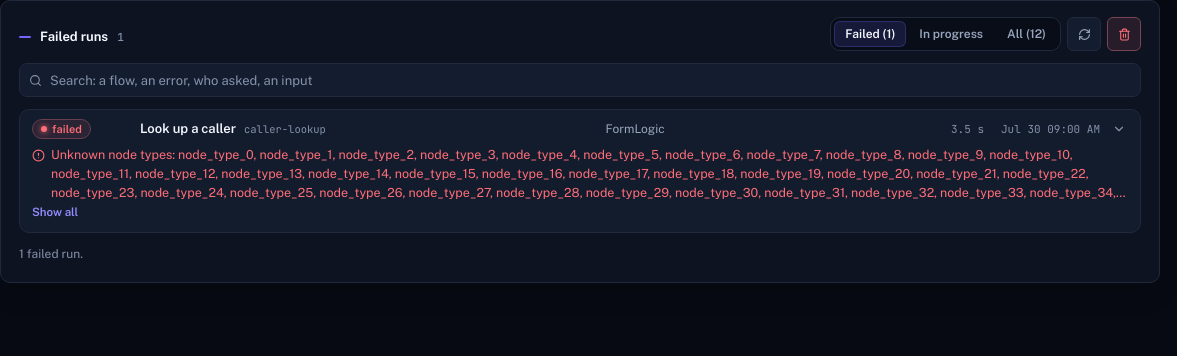
Scenario: RunsPanel › holds a long reason to three lines, with the rest a click away
The image size is (1177, 356).
Click the button "Show all".
click(55, 212)  # box [32,202,78,222]
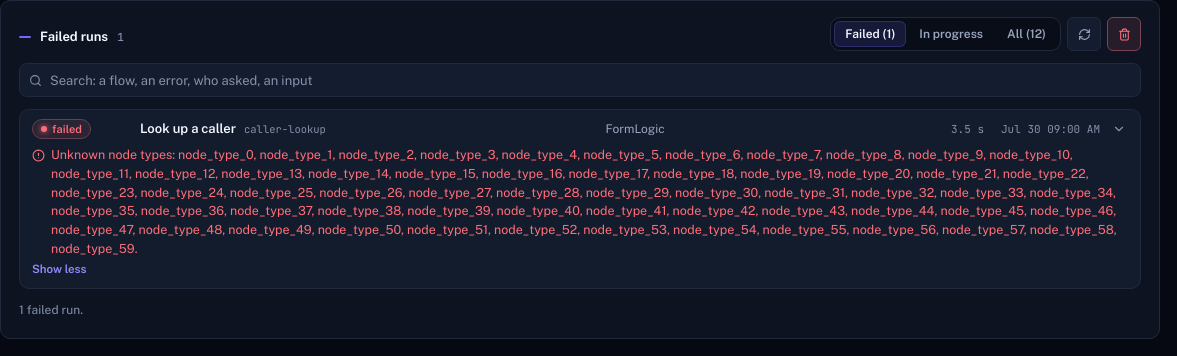
Expected: the button "Show less" is expanded
Click the button "Show less".
click(59, 268)  # box [32,258,86,278]
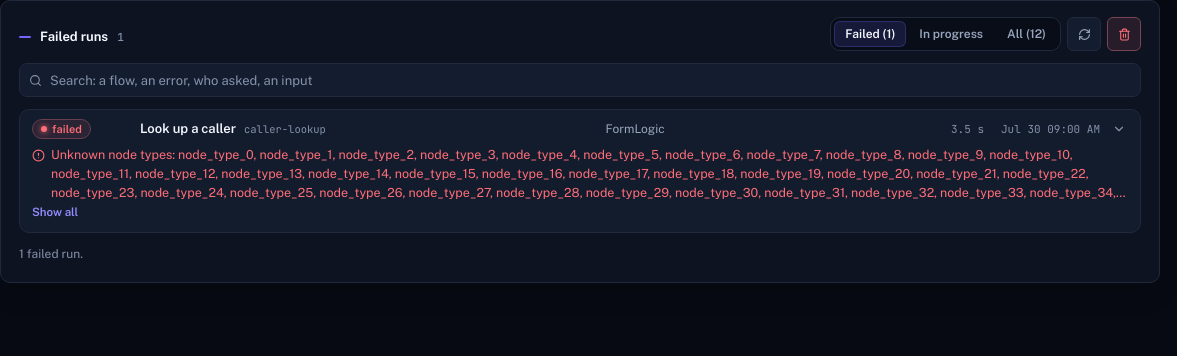
Expected: the button "Show all" is collapsed, [32,202,78,222]
